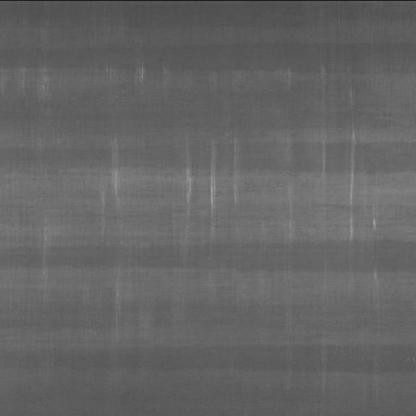waist_folding: (12, 46, 414, 297)
